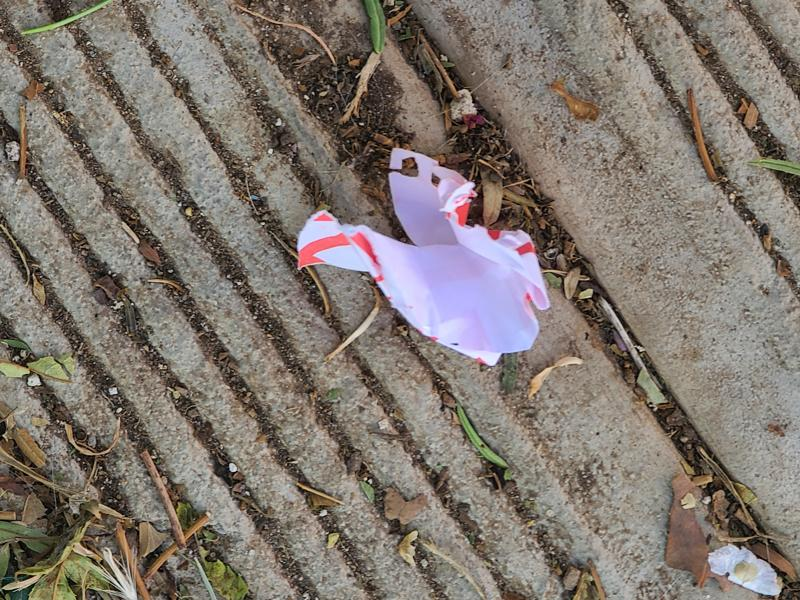papel: (297, 150, 550, 367)
